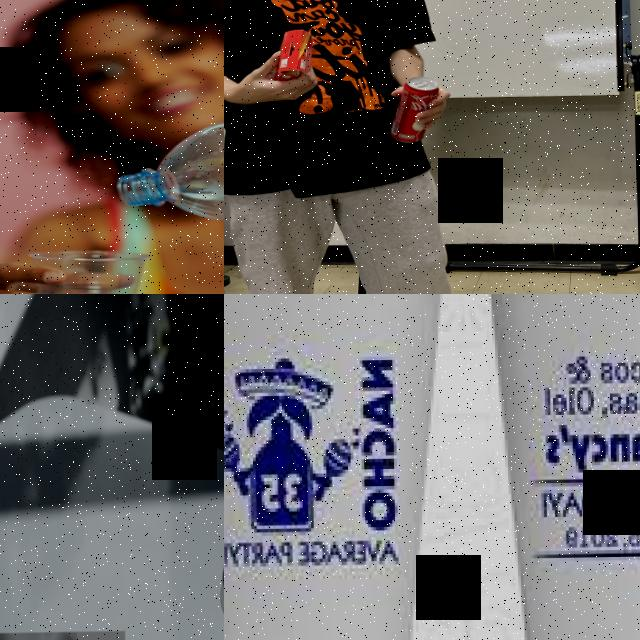bottle: (103, 74, 224, 230)
can: (387, 76, 438, 145)
cup: (224, 294, 467, 640), (473, 294, 640, 640), (23, 249, 155, 294)
